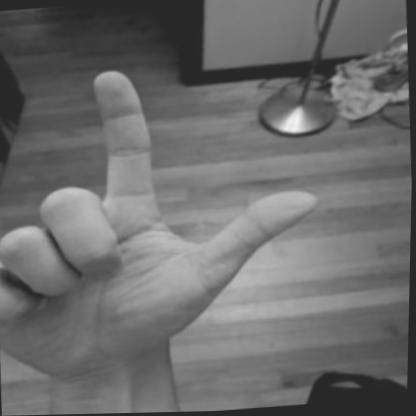L: (0, 41, 341, 393)
